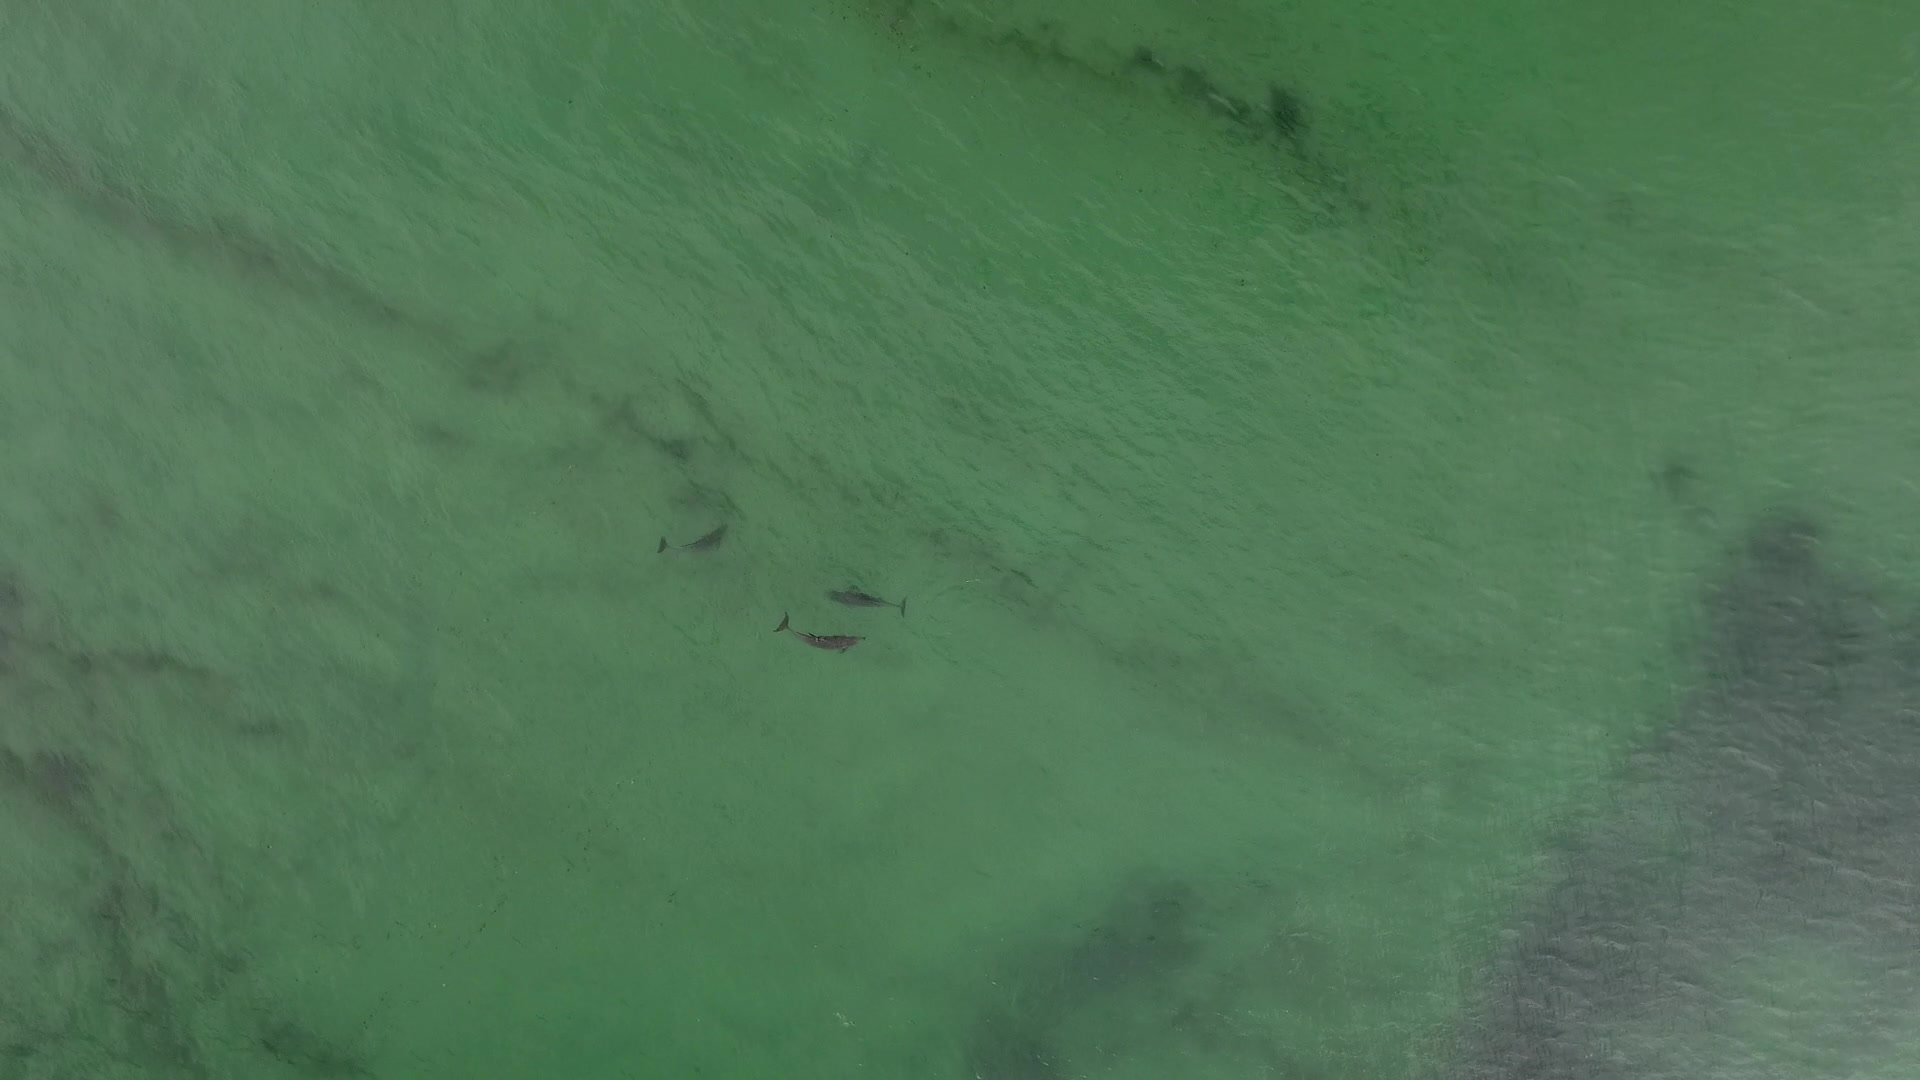dolphin: (746, 595, 876, 661), (810, 567, 920, 629), (638, 506, 735, 570)
